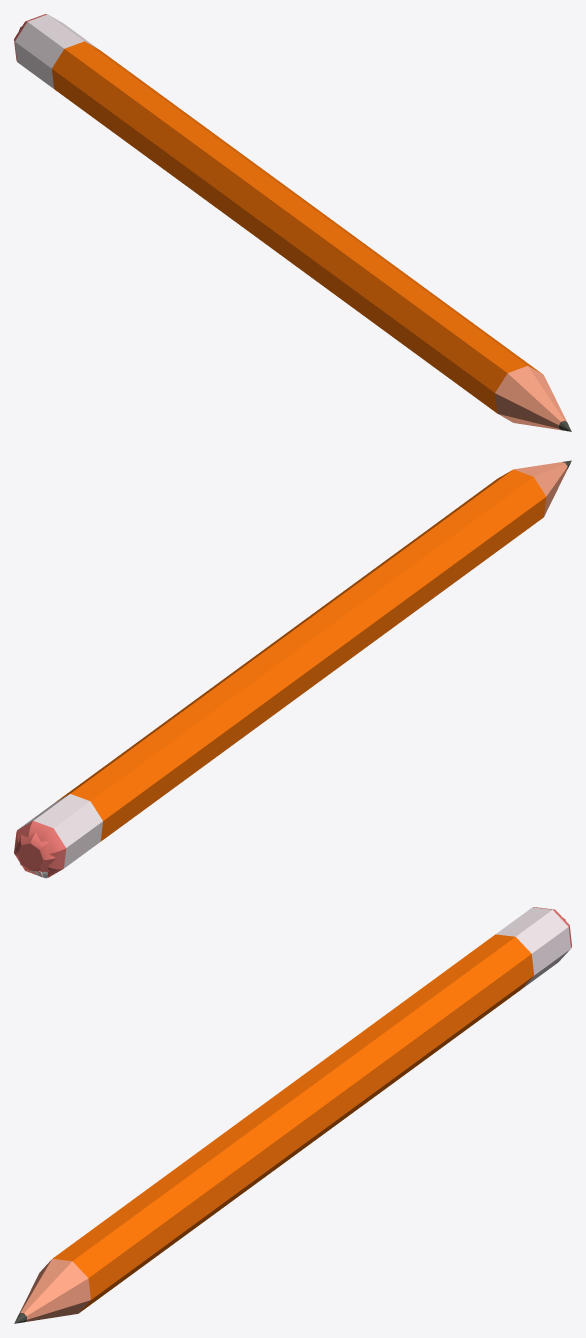
The picture shows the model from 3 angles, top to bottom: view 1: azimuth 30°, elevation 25°; view 2: azimuth 150°, elevation 25°; view 3: azimuth 330°, elevation 25°; orthographic projection.
Visible parts, largest first — view 1: pencil; view 2: pencil; view 3: pencil.
Boxes of the visible parts, x1,y1,x2,y2 form: pencil: [14, 14, 571, 431]; pencil: [14, 460, 571, 878]; pencil: [14, 907, 571, 1323].
Bounding box in the file's own units: 5.78 × 5.78 × 106.
